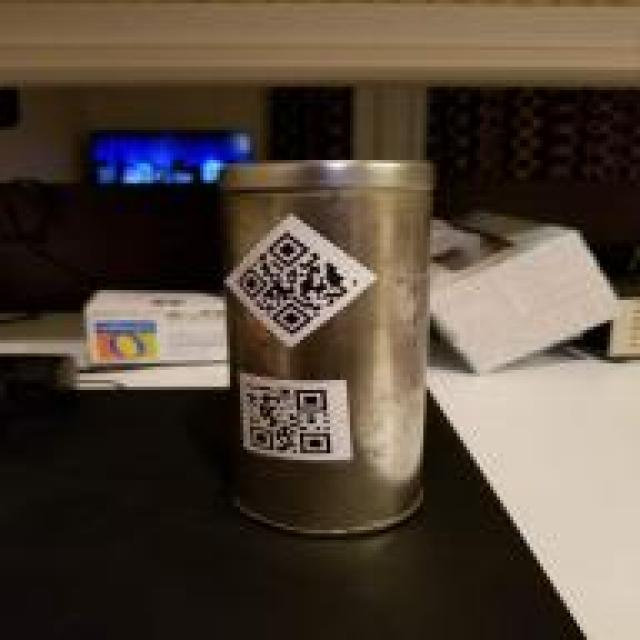QR_CODE: (227, 220, 370, 342), (232, 376, 343, 462)
